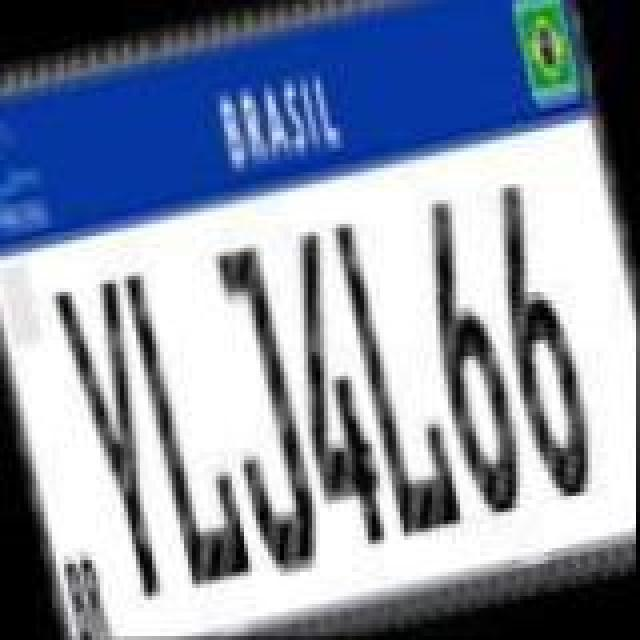4: (262, 222, 394, 558)
6: (404, 188, 536, 524), (472, 168, 604, 504)
J: (194, 234, 334, 578)
L: (124, 256, 260, 592), (332, 204, 464, 540)
Y: (52, 270, 188, 610)
